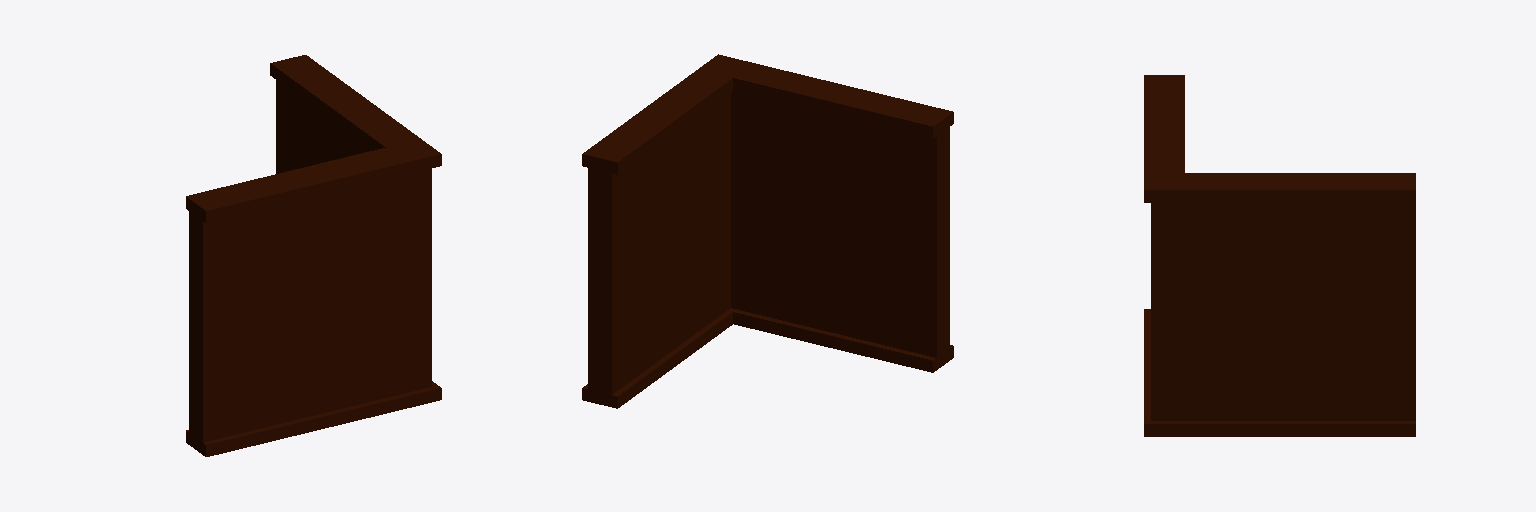
File: 4x4_wall_corner.obj
3 views of the same model, side by side, from view 1: azimuth 30°, elevation 25°; view 2: azimuth 150°, elevation 25°; view 3: azimuth 270°, elevation 25° (orthographic).
Visible parts, largest first — view 1: wall; view 2: wall; view 3: wall.
Part boxes in pixels (x1,y1,x2,y2): wall: (186,55,441,456); wall: (582,54,953,408); wall: (1144,75,1415,436).
Bounding box in the file's own units: 4 × 4 × 4.